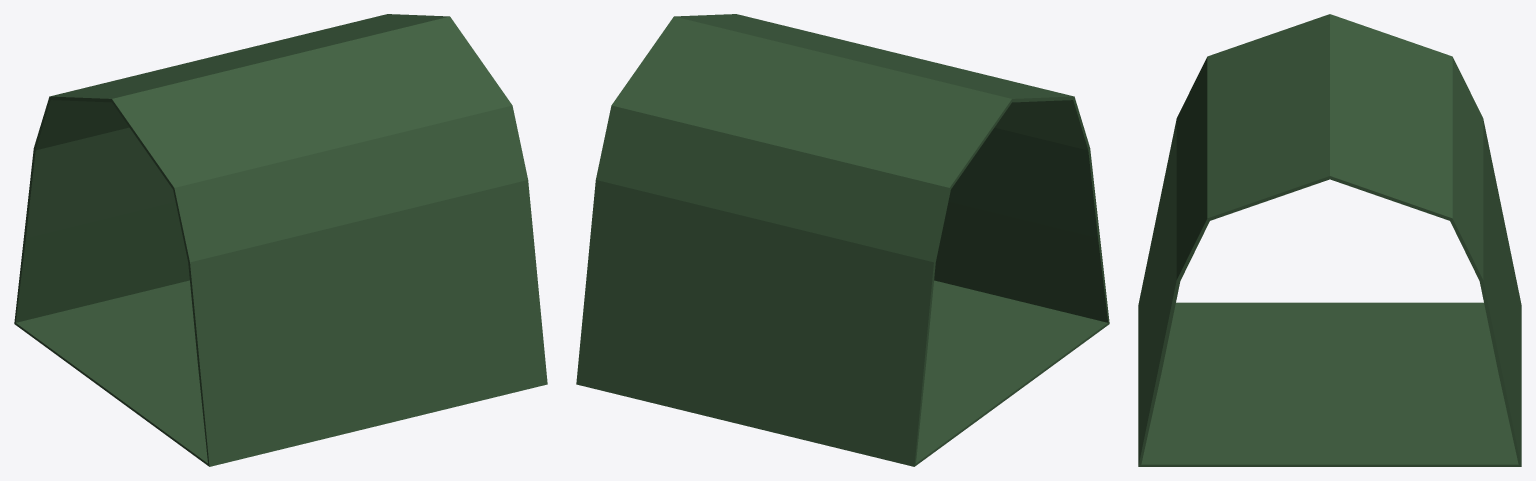
3 renders of one model, left to right at view 1: azimuth 30°, elevation 25°; view 2: azimuth 150°, elevation 25°; view 3: azimuth 270°, elevation 25°, orthographic.
Parts seen in each view (by area): view 1: Plane; view 2: Plane; view 3: Plane.
Part boxes in pixels (x1,y1,x2,y2): Plane: [14, 14, 547, 466]; Plane: [576, 14, 1109, 466]; Plane: [1138, 14, 1521, 466].
Bounding box in the file's own units: 200 × 168 × 200.
